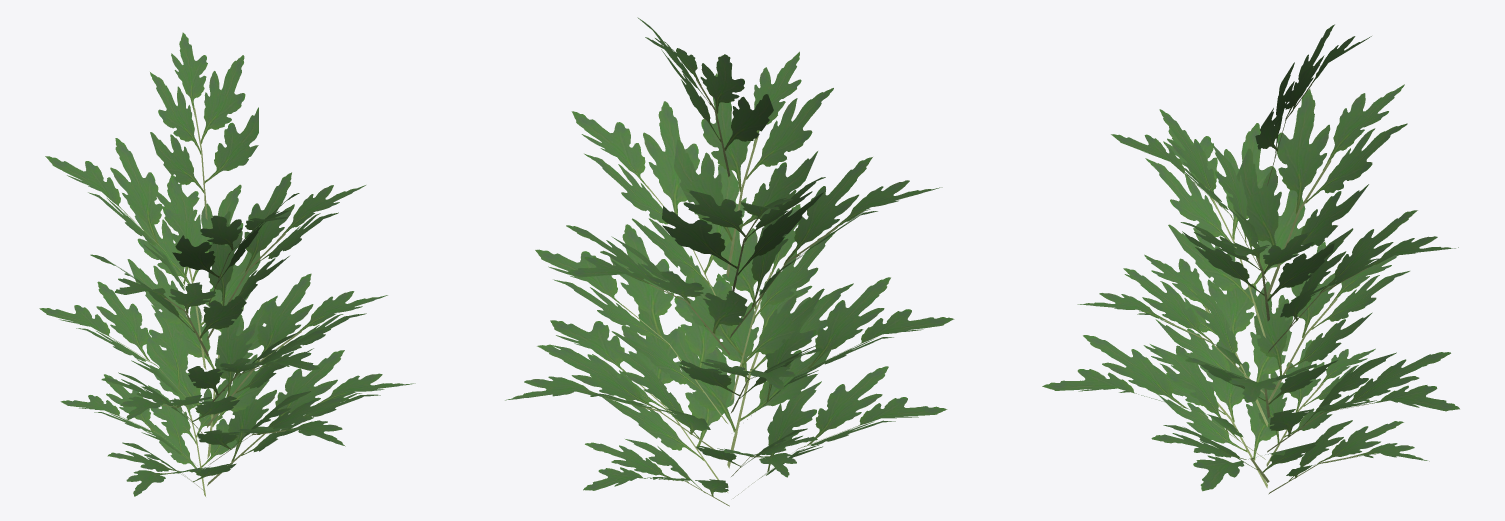
The model's file is Plant1.fbx.
3 renders of one model, left to right at view 1: azimuth 30°, elevation 25°; view 2: azimuth 150°, elevation 25°; view 3: azimuth 270°, elevation 25°, orthographic. The views are drawn at different scales.
Parts seen in each view (by area): view 1: Tree_0; view 2: Tree_0; view 3: Tree_0.
Boxes of the visible parts, left/top/right/bottom form: Tree_0: left=39, top=32, right=415, bottom=496; Tree_0: left=505, top=17, right=954, bottom=506; Tree_0: left=1042, top=24, right=1459, bottom=494.
Size of the model in its own units: 8.62 by 9.69 by 8.4.
